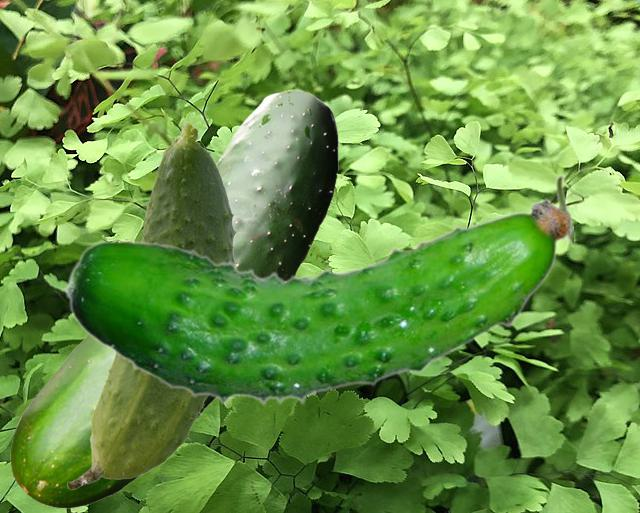cucumber: (10, 89, 337, 507), (62, 174, 572, 405), (67, 121, 236, 488)
